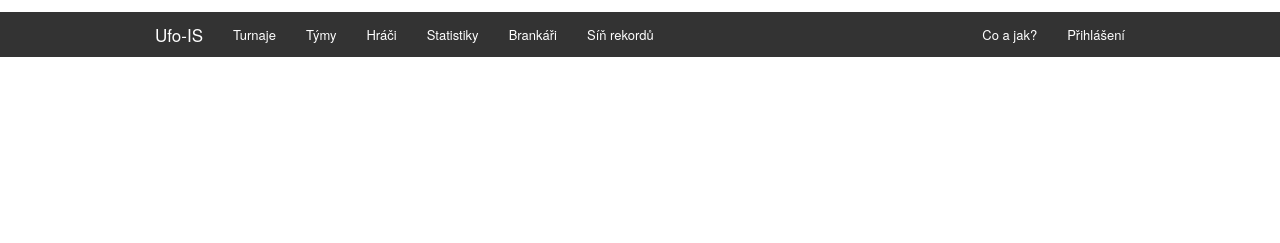
anonymous user sees login menu
Click the button "Přihlášení": coordinates (1096, 34) [1052,12,1140,57]
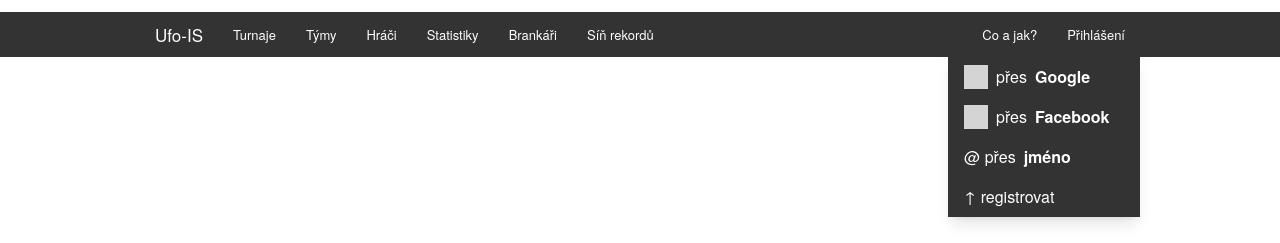
Now the menu item "přes Google" is shown, box [948,57,1140,97]
Now the menu item "přes Facebook" is shown, box [948,97,1140,137]
Now the menu item "@ přes jméno" is shown, box [948,137,1140,177]
